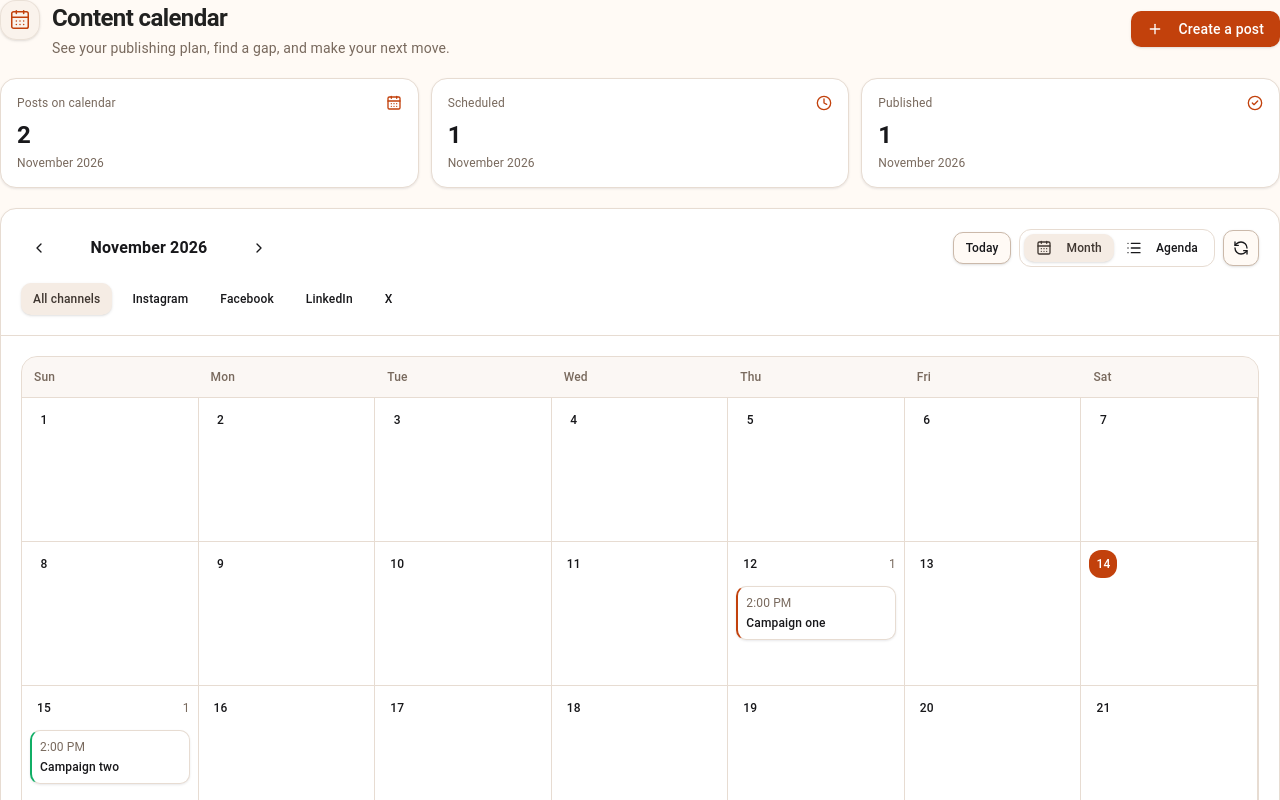
Test case: CalendarPage › filters channels locally without additional API requests
Click the button "Facebook" at (247, 299), box 208,283 -> 286,315
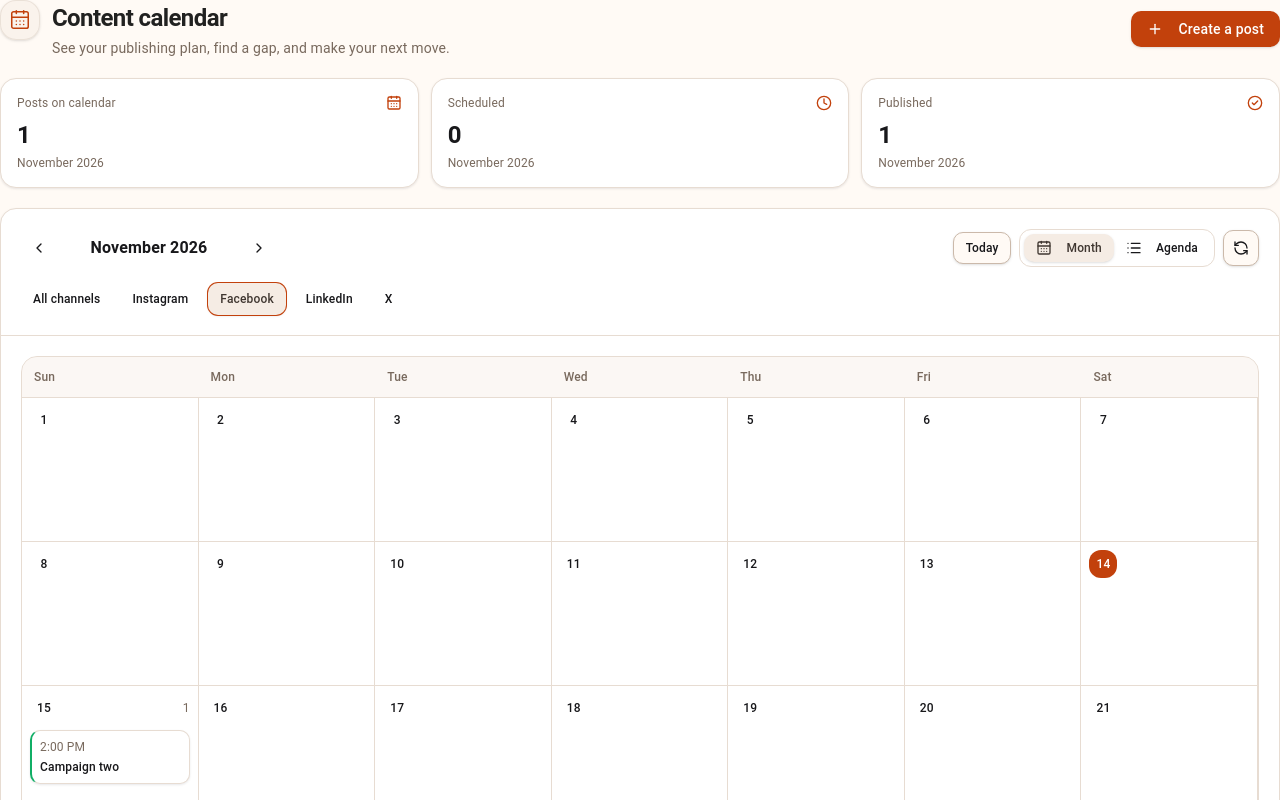
Expected: the button "2:00 PM Campaign two" is shown, 30,730 -> 190,784
Now the button "Campaign one" is gone
